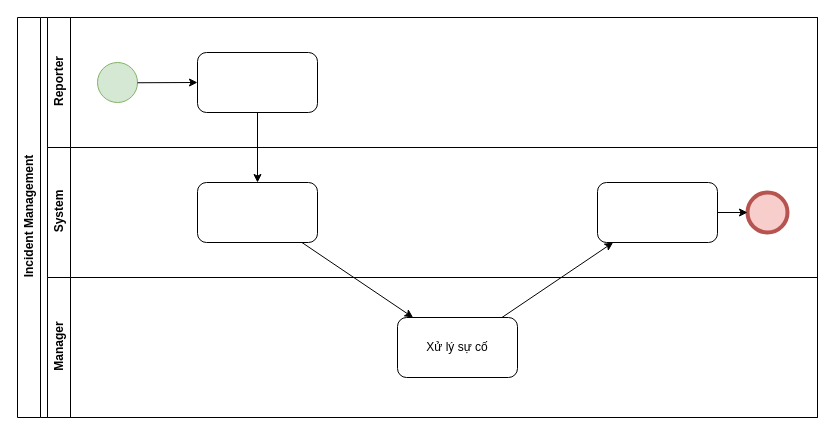
This 835x435 diagram has some shape labels left out. The shapes that lost their labels are listed below. From the top down, each one's centre as x and y in pixels, then its label:
pixel 257 82: Gửi báo cáo sự cố
pixel 257 212: Lưu sự cố & Thông báo
pixel 657 212: Cập nhật (RESOLVED)
